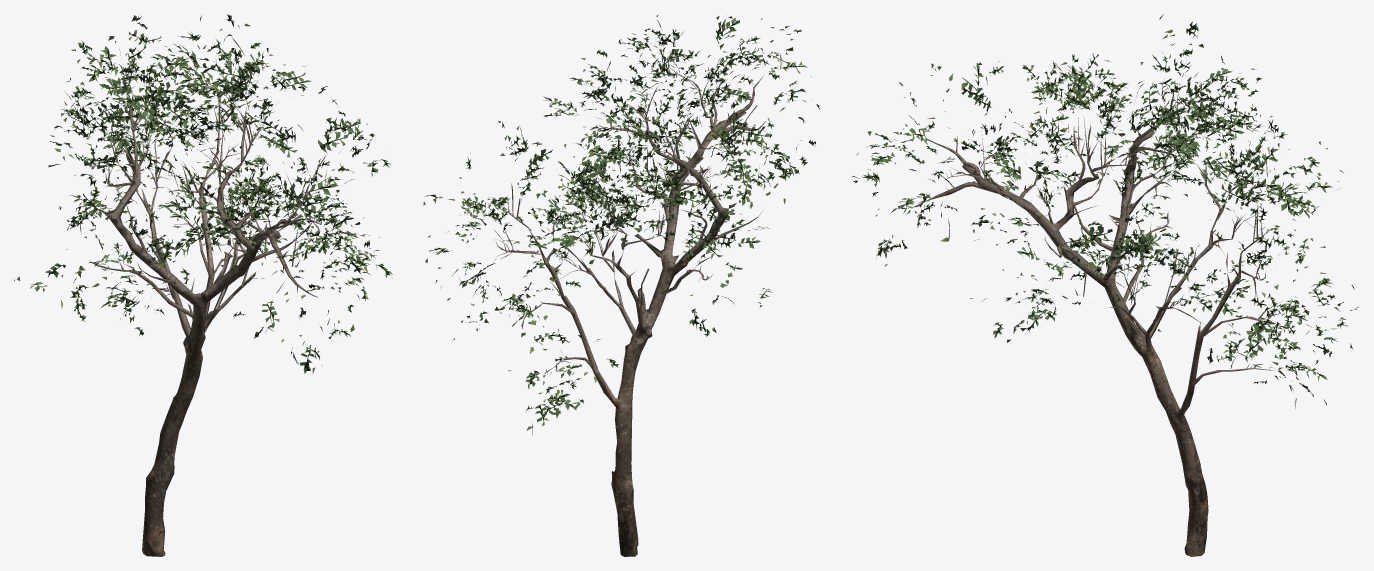
File: arbre_petit_ornement_lod0.glb
3 renders of one model, left to right at view 1: azimuth 30°, elevation 25°; view 2: azimuth 150°, elevation 25°; view 3: azimuth 270°, elevation 25°, orthographic. The views are drawn at different scales.
Parts seen in each view (by area): view 1: tree_small_02_LOD0; view 2: tree_small_02_LOD0; view 3: tree_small_02_LOD0.
Part boxes in pixels (x1,y1,x2,y2): tree_small_02_LOD0: (14,14,392,556); tree_small_02_LOD0: (423,14,820,556); tree_small_02_LOD0: (851,14,1358,556).
Size of the model in its own units: 2.86 by 4.55 by 4.21.
Materials: 3 (3 with a texture image).
